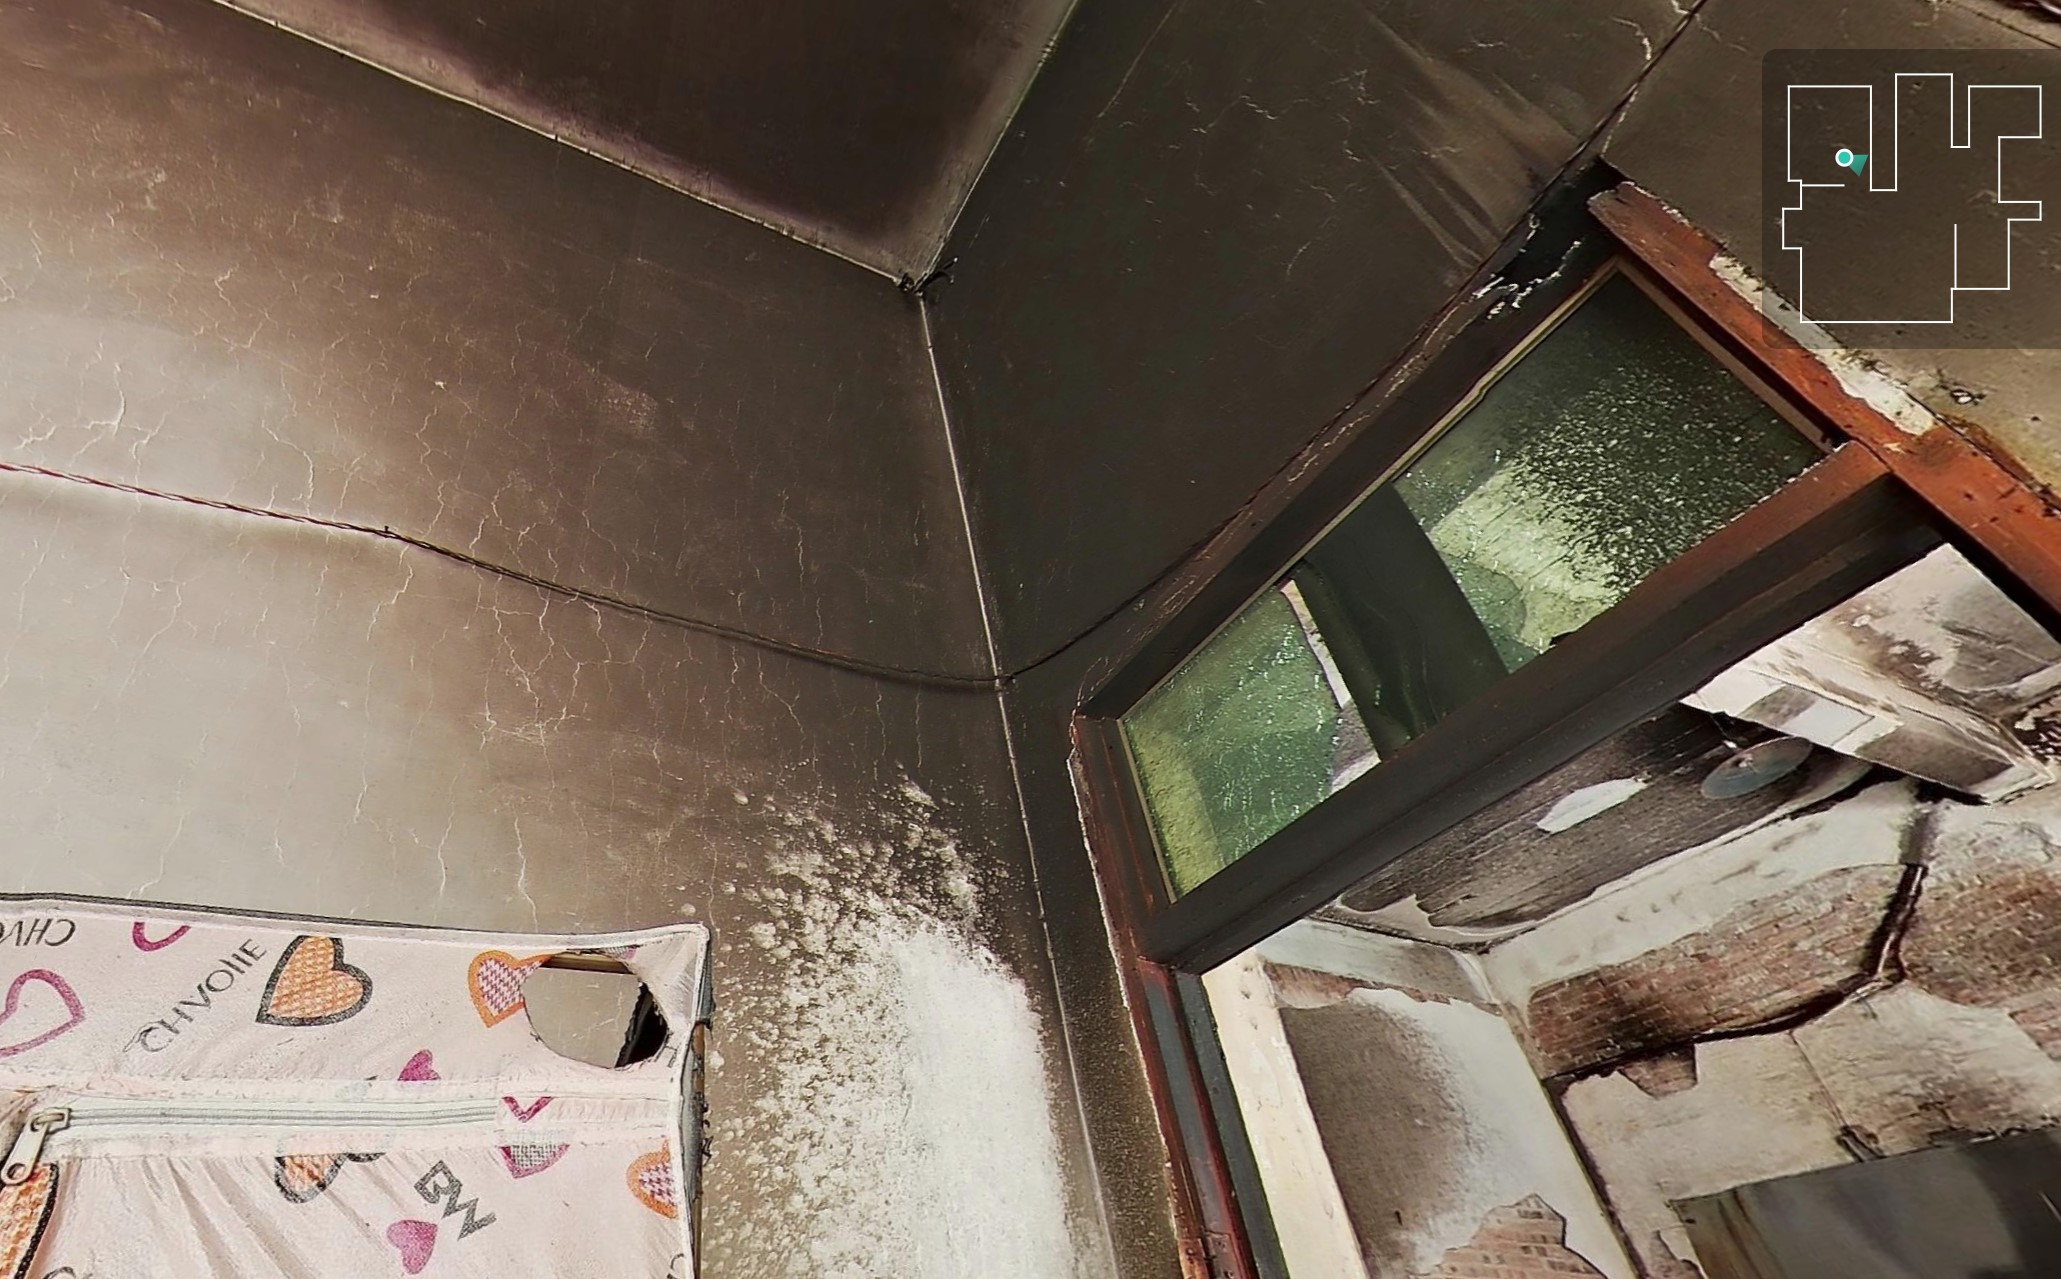Damage_level1: (935, 217, 1293, 538), (389, 13, 1002, 183), (1086, 35, 1441, 212), (1466, 21, 1756, 196), (1293, 1005, 1453, 1213)
Damage_level2: (694, 807, 1071, 1276)
Damage_level3: (315, 298, 575, 656), (21, 144, 252, 500), (650, 463, 840, 785), (358, 707, 629, 911)
Damage_level4: (1486, 905, 2039, 1179), (1469, 760, 1902, 880), (1397, 1186, 1685, 1279)
